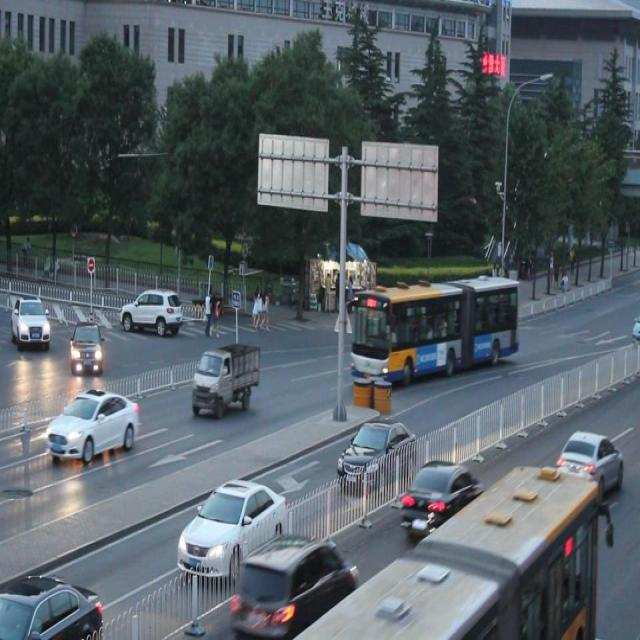bus: (192, 344, 259, 414)
car: (237, 535, 357, 640), (177, 479, 288, 576), (1, 569, 103, 640), (45, 387, 140, 462), (401, 460, 477, 532), (337, 420, 417, 487), (557, 429, 622, 493), (124, 288, 180, 334), (12, 296, 51, 346), (71, 322, 103, 372)
van: (289, 456, 595, 640), (352, 278, 519, 381)
